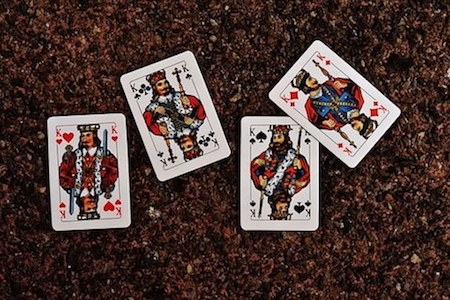KingOfClubs: (117, 47, 234, 185)
KingOfDiamonds: (274, 38, 410, 158)
KingOfHearts: (40, 106, 133, 239)
KingOfSpades: (236, 113, 321, 238)
